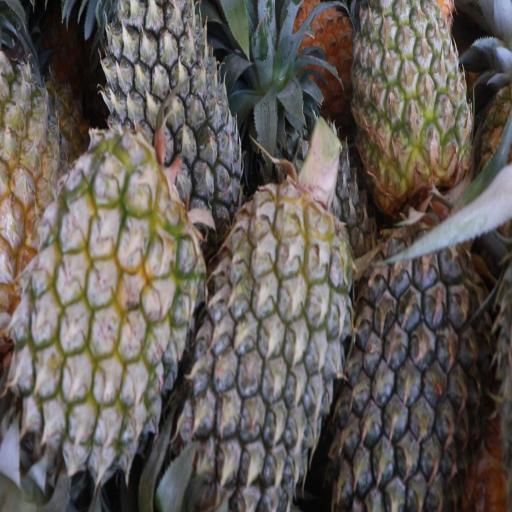------------------------------: (26, 146, 196, 476), (353, 0, 471, 198)
